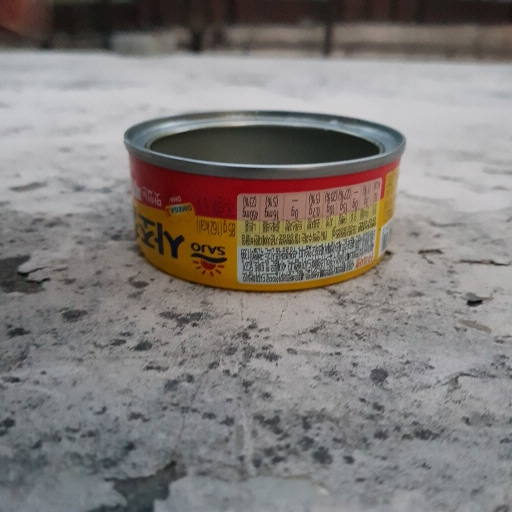Metal_1: (119, 108, 408, 292)
